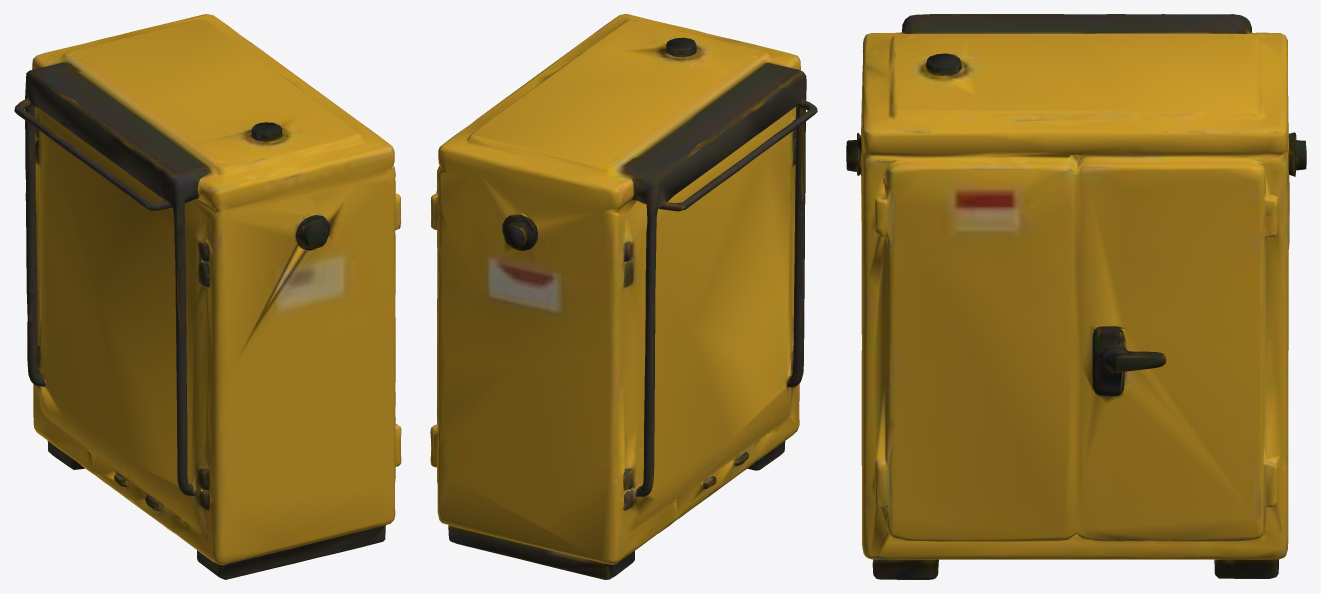
Rendered from chemical_cabinet.glb.
3 renders of one model, left to right at view 1: azimuth 30°, elevation 25°; view 2: azimuth 150°, elevation 25°; view 3: azimuth 270°, elevation 25°, orthographic. The views are drawn at different scales.
Parts seen in each view (by area): view 1: geometry_0; view 2: geometry_0; view 3: geometry_0.
Part boxes in pixels (x1,y1,x2,y2): geometry_0: (14, 14, 401, 579); geometry_0: (430, 14, 817, 579); geometry_0: (846, 14, 1306, 579).
Bounding box in the file's own units: 0.6441 × 1 × 0.8867.
Materials: 1 (1 with a texture image).
